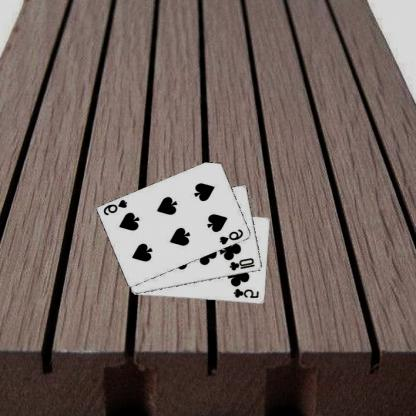10C: (229, 256, 258, 272)
5C: (234, 286, 262, 300)
6S: (219, 226, 246, 245), (103, 197, 130, 216)
